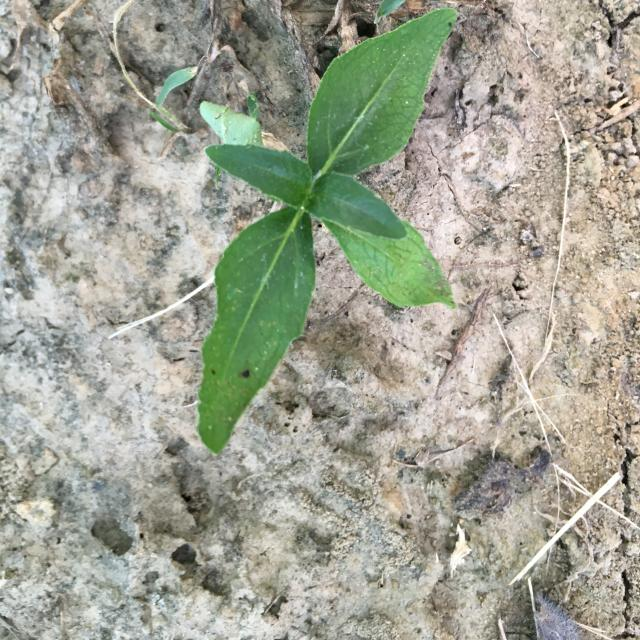Eclipta: (197, 7, 458, 455)
